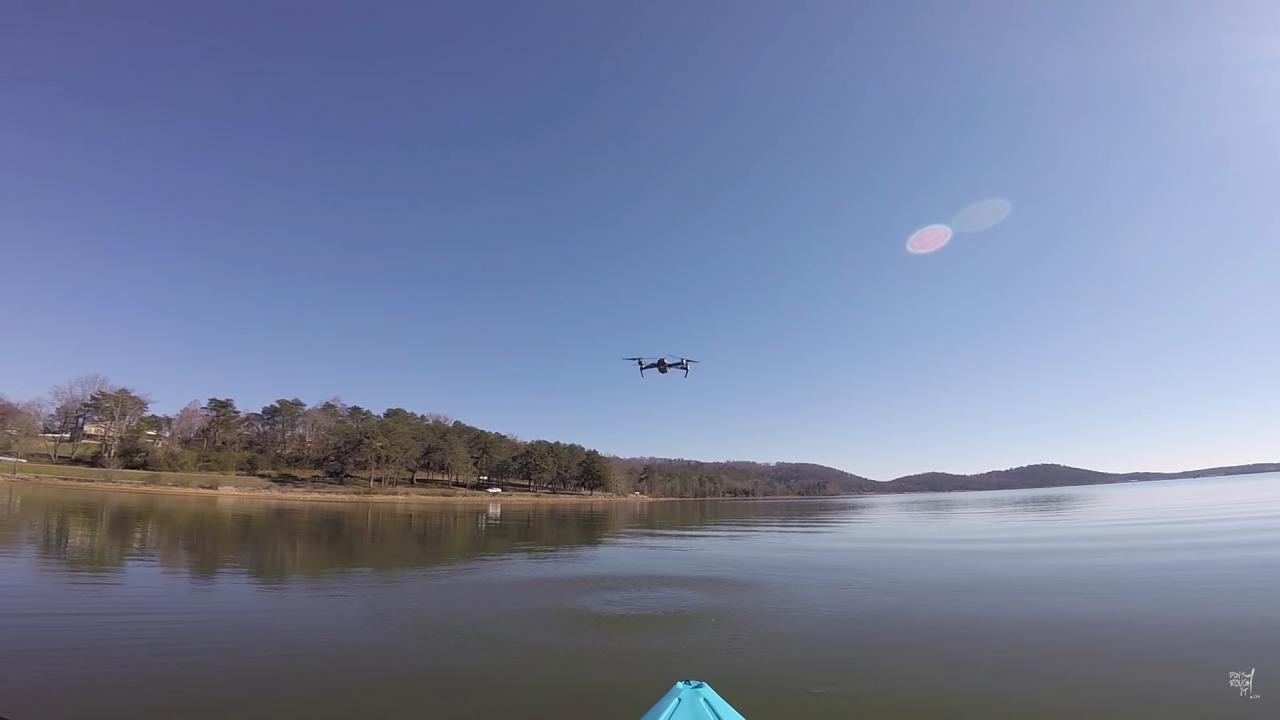Drone: (614, 342, 710, 388)
